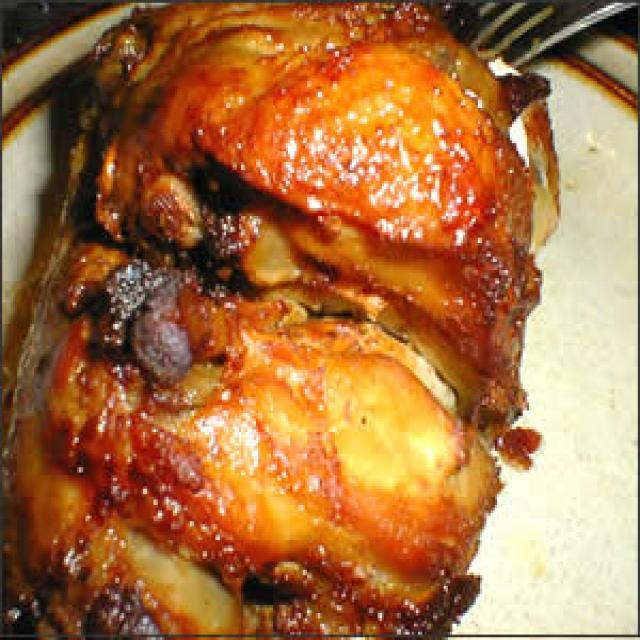Chicken: (18, 0, 552, 640)
